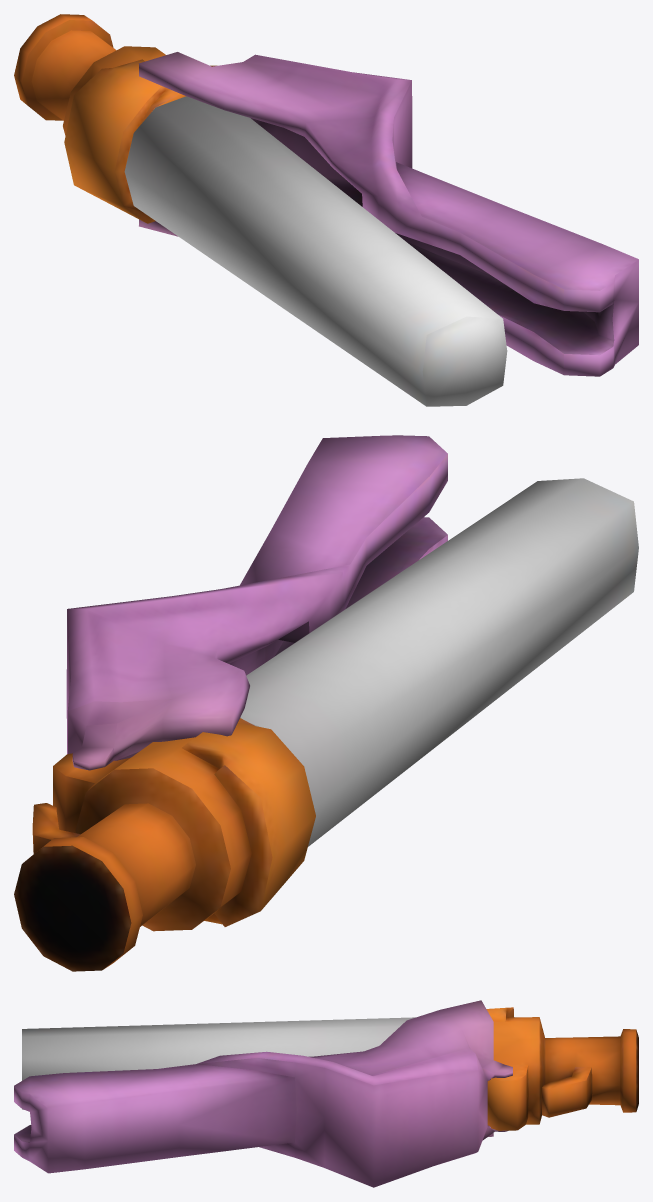
Rendered from safe_needle.fbx.
The picture shows the model from 3 angles, top to bottom: view 1: azimuth 30°, elevation 25°; view 2: azimuth 150°, elevation 25°; view 3: azimuth 270°, elevation 25°; orthographic projection. The views are drawn at different scales.
Visible parts, largest first — view 1: Cup, Prot, needle_base; view 2: Cup, Prot, needle_base; view 3: Prot, Cup, needle_base.
Boxes of the visible parts, x1=… form: Cup: x1=124, y1=96, x2=507, y2=406; Prot: x1=138, y1=52, x2=638, y2=376; needle_base: x1=14, y1=14, x2=216, y2=223; Cup: x1=240, y1=478, x2=638, y2=846; Prot: x1=66, y1=435, x2=447, y2=770; needle_base: x1=14, y1=718, x2=315, y2=971; Prot: x1=14, y1=1000, x2=512, y2=1187; Cup: x1=22, y1=1017, x2=415, y2=1109; needle_base: x1=486, y1=1007, x2=638, y2=1130.
Size of the model in its own units: 0.0313 by 0.0182 by 0.0836.
